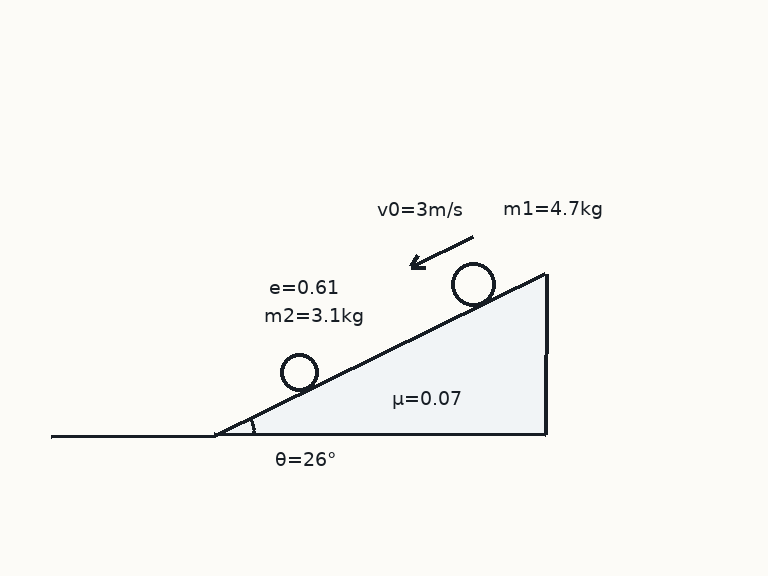ball: (449, 260, 497, 308), (278, 351, 320, 393)
ramp: (212, 272, 547, 437)
